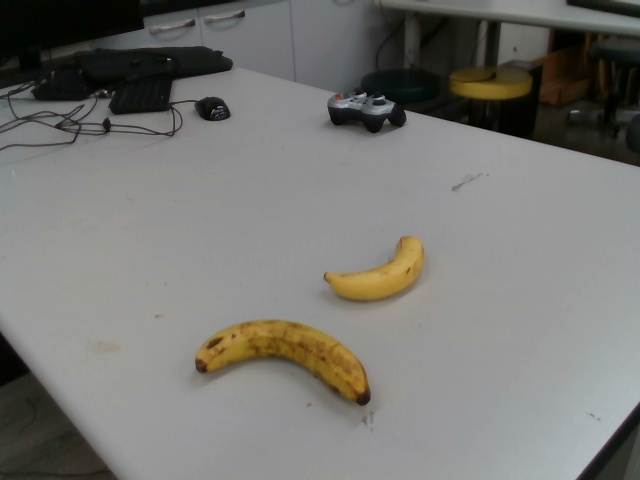banana: (193, 317, 367, 409), (320, 230, 426, 303)
